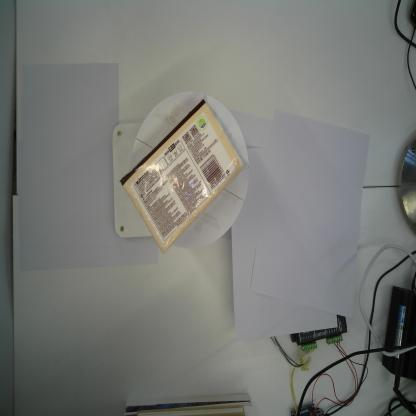Tissue: (118, 93, 250, 256)
